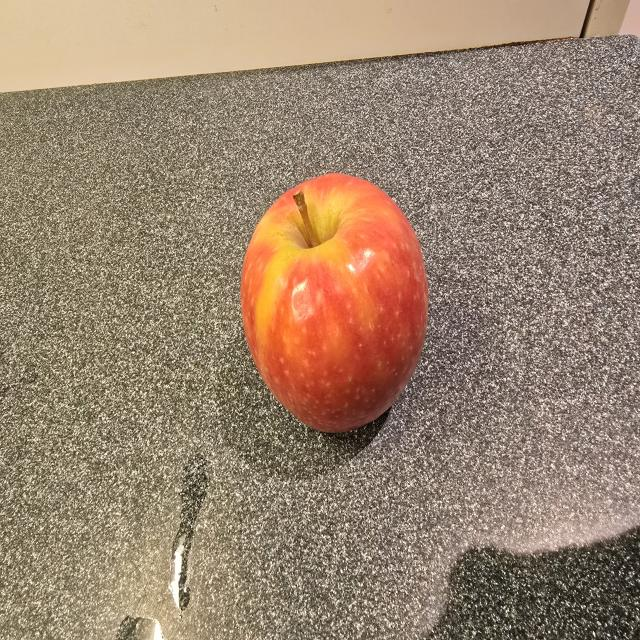Apple: (241, 174, 428, 431)
